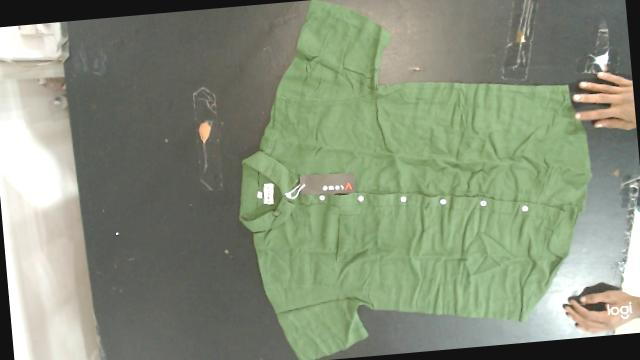new-garment: (240, 0, 590, 360)
